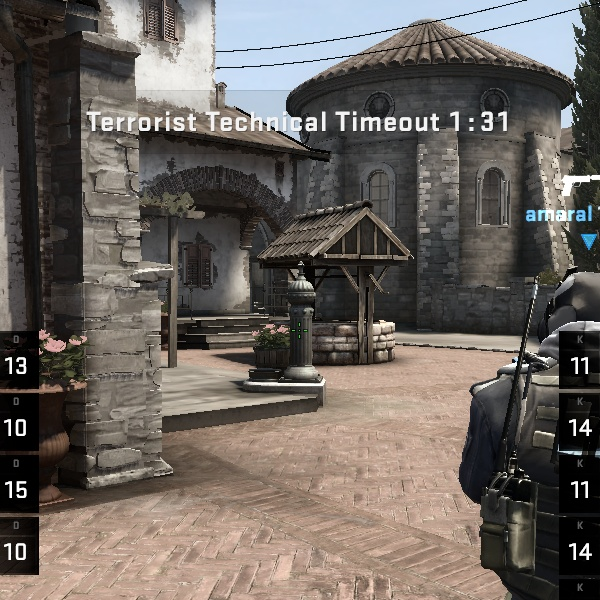ct_body: (424, 263, 600, 600)
ct_head: (520, 261, 598, 390)
